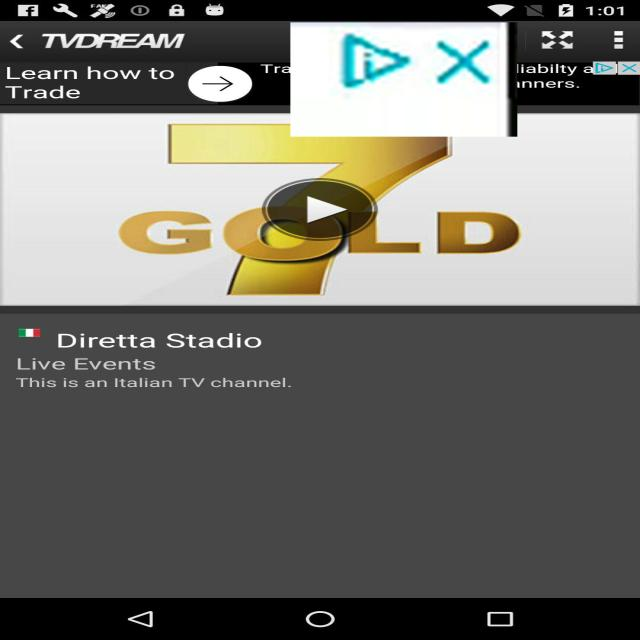sneaking: (290, 22, 518, 137)
